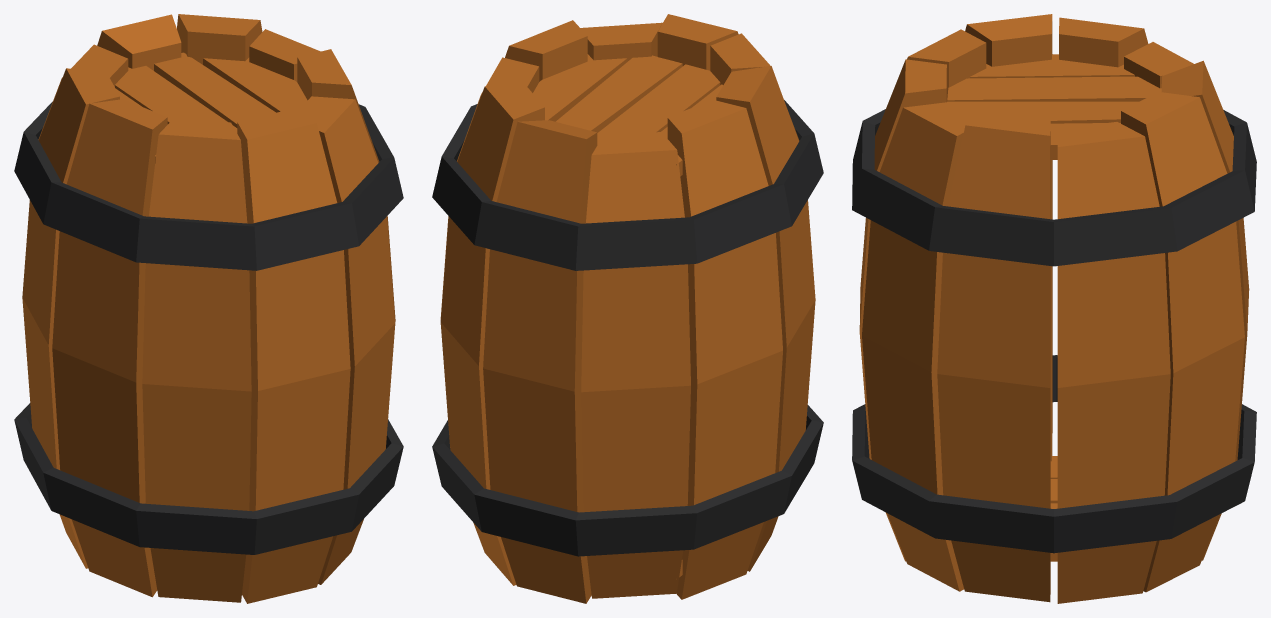
Rendered from Barrel_v2.fbx.
3 renders of one model, left to right at view 1: azimuth 30°, elevation 25°; view 2: azimuth 150°, elevation 25°; view 3: azimuth 270°, elevation 25°, orthographic.
Parts seen in each view (by area): view 1: Barrel; view 2: Barrel; view 3: Barrel.
Part boxes in pixels (x1,y1,x2,y2): Barrel: (14, 14, 403, 603); Barrel: (432, 14, 823, 603); Barrel: (852, 14, 1256, 603).
Bounding box in the file's own units: 62.48 × 84.94 × 66.08.
